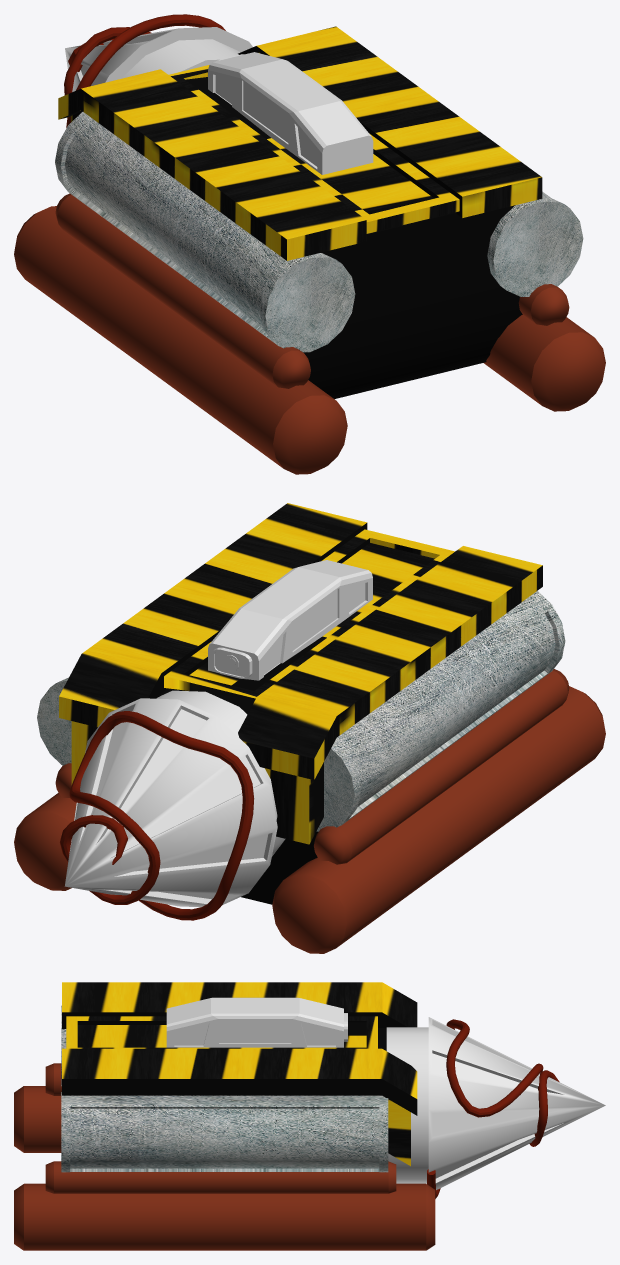
The model's file is drill.fbx.
3 renders of one model, top to bottom at view 1: azimuth 30°, elevation 25°; view 2: azimuth 150°, elevation 25°; view 3: azimuth 270°, elevation 25°, orthographic. The views are drawn at different scales.
Visible parts, largest first — view 1: Cube, Cylinder, Cylinder.004, Cube.004, Cube.002, Cylinder.003, Cylinder.005, Cone, BézierCurve; view 2: Cube, Cylinder, Cone, Cylinder.004, Cube.002, BézierCurve, Cylinder.003, Cube.004, Cylinder.005, Cube.001; view 3: Cylinder.003, Cube, Cylinder.005, Cone, Cube.002, Cylinder, BézierCurve.
Part boxes in pixels (x1,y1,x2,y2): Cube: [58, 26, 542, 260]; Cylinder: [14, 193, 347, 474]; Cylinder.004: [55, 112, 355, 352]; Cube.004: [303, 205, 522, 398]; Cube.002: [208, 52, 373, 174]; Cylinder.003: [484, 284, 605, 411]; Cylinder.005: [487, 191, 583, 296]; Cone: [65, 27, 252, 91]; BézierCurve: [64, 14, 225, 127]; Cube: [59, 503, 542, 844]; Cylinder: [272, 669, 605, 953]; Cone: [64, 690, 285, 907]; Cylinder.004: [316, 591, 565, 831]; Cube.002: [208, 560, 372, 680]; BézierCurve: [60, 711, 254, 920]; Cylinder.003: [14, 763, 76, 890]; Cube.004: [158, 688, 318, 904]; Cylinder.005: [37, 677, 71, 765]; Cube.001: [212, 647, 252, 678]; Cylinder.003: [14, 1161, 435, 1250]; Cube: [62, 982, 417, 1166]; Cylinder.005: [61, 1092, 388, 1172]; Cone: [386, 1017, 605, 1189]; Cube.002: [166, 997, 343, 1047]; Cylinder: [14, 1063, 61, 1152]; BézierCurve: [427, 1019, 559, 1198].
Size of the model in its own units: 338 by 240 by 667.
Materials: 9 (3 with a texture image).
